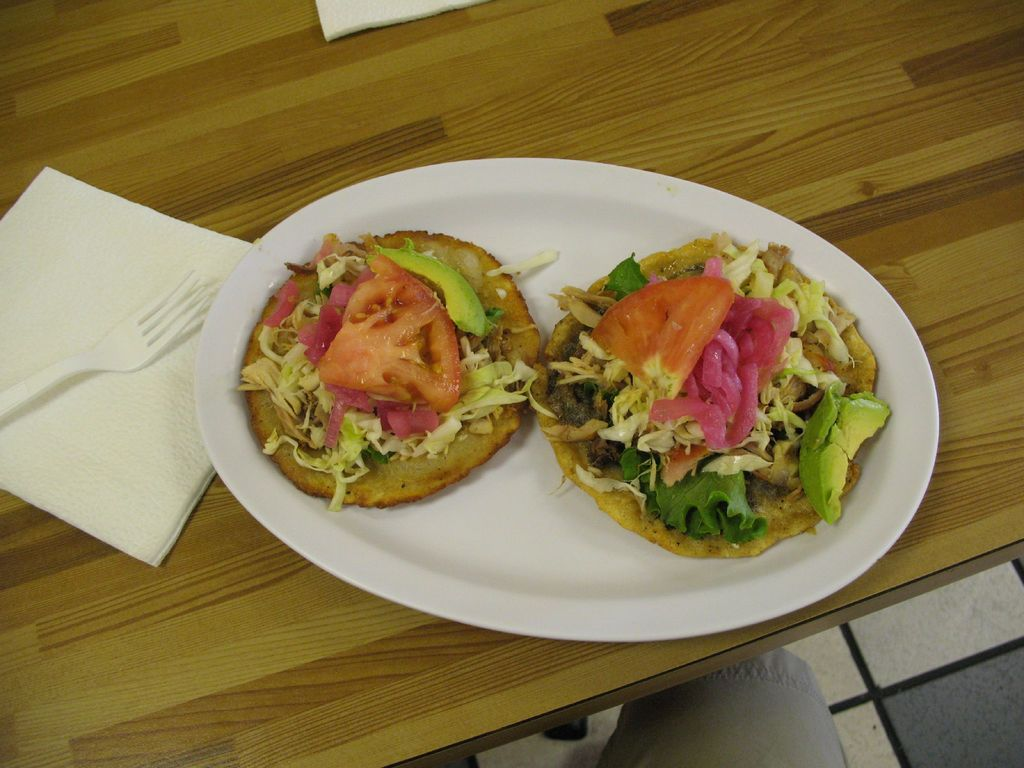taco: (557, 240, 896, 591), (241, 228, 539, 507)
